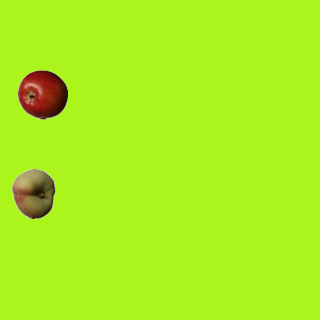Apple Braeburn: (17, 69, 67, 119)
Peach Flat: (8, 168, 58, 218)
